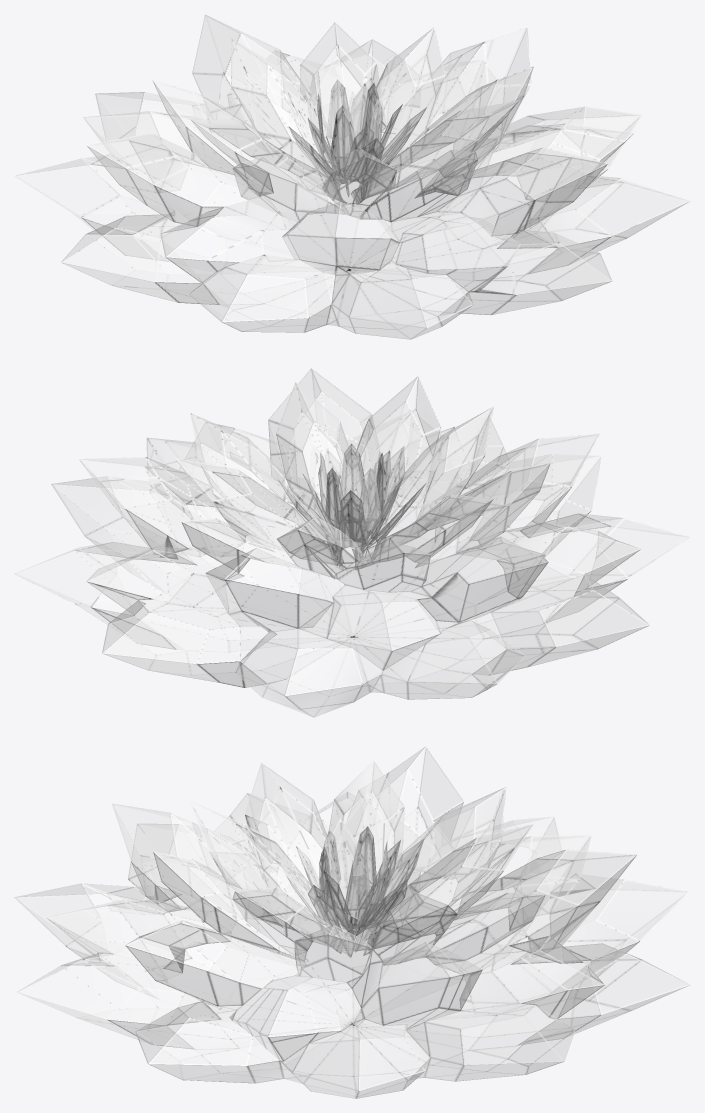
File: 2021_09_23_wire-frame-transparency-white-test.glb
The picture shows the model from 3 angles, top to bottom: view 1: azimuth 30°, elevation 25°; view 2: azimuth 150°, elevation 25°; view 3: azimuth 270°, elevation 25°; orthographic projection. The views are drawn at different scales.
Visible parts, largest first — view 1: Lotus_single_piece; view 2: Lotus_single_piece; view 3: Lotus_single_piece.
Boxes of the visible parts, <box> form: Lotus_single_piece: <box>14,14,690,339</box>; Lotus_single_piece: <box>14,368,690,717</box>; Lotus_single_piece: <box>14,746,690,1098</box>.
Size of the model in its own units: 12.84 by 4.04 by 12.25.
Materials: 1 (1 with a texture image).
